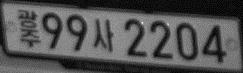0: (175, 21, 198, 60)
2: (149, 19, 174, 59), (123, 17, 147, 57)
4: (202, 24, 225, 63)
9: (65, 13, 88, 51), (41, 12, 63, 49)
광주_V: (18, 8, 41, 48)
사: (92, 18, 114, 52)
